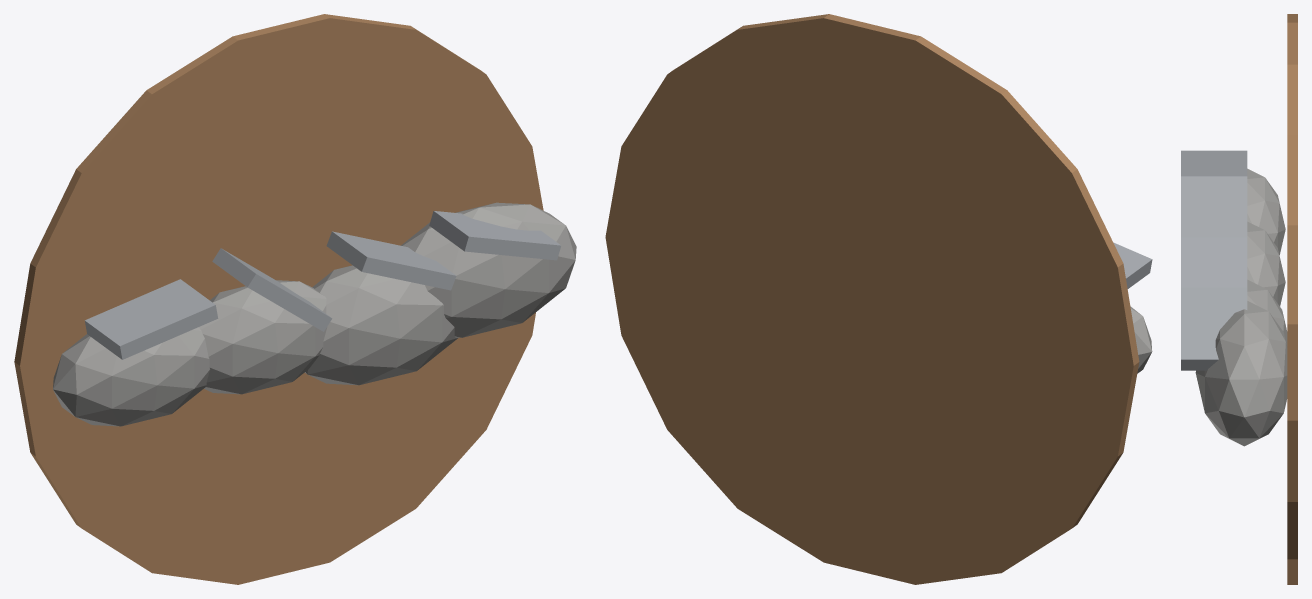
File: 02_local_prop_cluster.glb
The picture shows the model from 3 angles, left to right: view 1: azimuth 30°, elevation 25°; view 2: azimuth 150°, elevation 25°; view 3: azimuth 270°, elevation 25°; orthographic projection. The views are drawn at different scales.
Parts seen in each view (by area): view 1: scatter_base, scrap_rock_2, scrap_rock_3, scrap_rock_0, scrap_rock_1, scrap_plate_0, scrap_plate_2, scrap_plate_3, scrap_plate_1; view 2: scatter_base, scrap_plate_0, scrap_rock_0; view 3: scrap_rock_3, scatter_base, scrap_plate_1, scrap_plate_3, scrap_plate_2, scrap_rock_1, scrap_rock_0, scrap_plate_0, scrap_rock_2.
Boxes of the visible parts, x1,y1,x2,y2 form: scatter_base: (14, 14, 543, 584); scrap_rock_2: (305, 265, 458, 385); scrap_rock_3: (401, 202, 576, 337); scrap_rock_0: (53, 327, 209, 426); scrap_rock_1: (199, 280, 327, 394); scrap_plate_0: (84, 279, 218, 359); scrap_plate_2: (326, 231, 456, 290); scrap_plate_3: (429, 211, 561, 260); scrap_plate_1: (212, 248, 332, 331); scatter_base: (605, 14, 1139, 584); scrap_plate_0: (1113, 242, 1152, 288); scrap_rock_0: (1130, 306, 1152, 373); scrap_rock_3: (1195, 301, 1287, 446); scatter_base: (1287, 14, 1297, 584); scrap_plate_1: (1181, 176, 1247, 237); scrap_plate_3: (1181, 287, 1247, 370); scrap_plate_2: (1181, 237, 1247, 287); scrap_rock_1: (1247, 221, 1285, 306); scrap_rock_0: (1247, 168, 1285, 254); scrap_plate_0: (1181, 150, 1247, 176); scrap_rock_2: (1247, 279, 1287, 346).
Size of the model in its own units: 1.92 by 1.87 by 0.3875.
